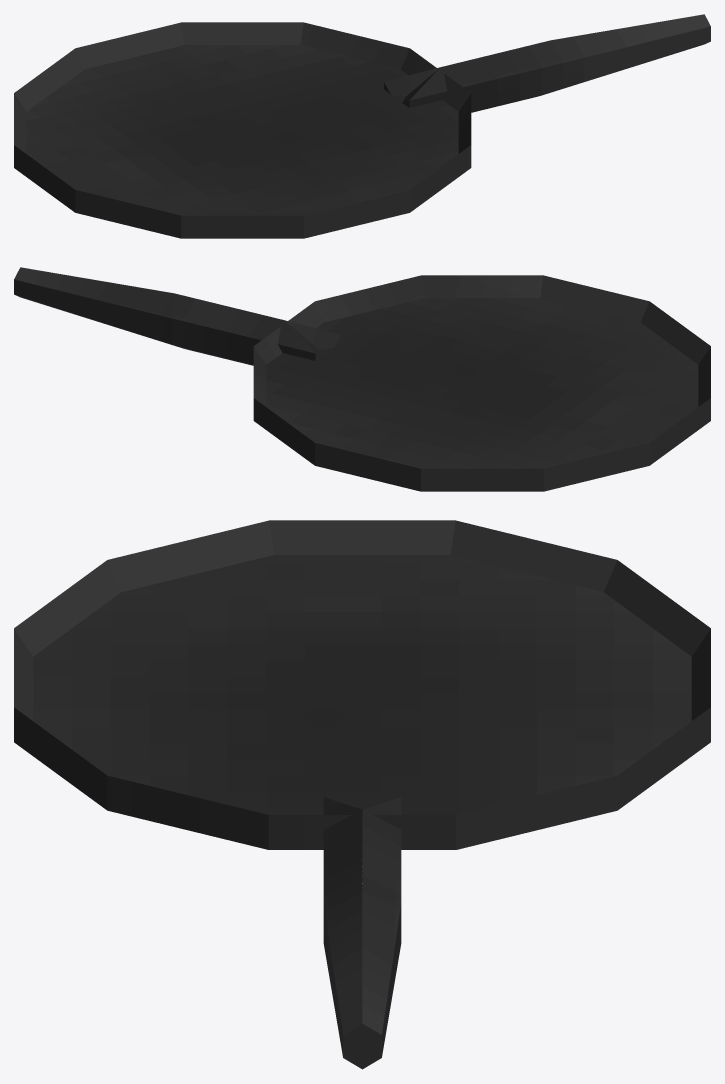
The model's file is pan.fbx.
3 renders of one model, top to bottom at view 1: azimuth 30°, elevation 25°; view 2: azimuth 150°, elevation 25°; view 3: azimuth 270°, elevation 25°, orthographic. The views are drawn at different scales.
Parts seen in each view (by area): view 1: cylinder, cylinder_1; view 2: cylinder, cylinder_1; view 3: cylinder, cylinder_1.
Boxes of the visible parts, x1,y1,x2,y2 form: cylinder: (14, 22, 471, 238); cylinder_1: (384, 14, 710, 112); cylinder: (253, 275, 710, 491); cylinder_1: (14, 267, 340, 365); cylinder: (14, 520, 710, 849); cylinder_1: (323, 797, 401, 1069).
Size of the model in its own units: 188 by 14.43 by 112.
1 material, 1 textured.
